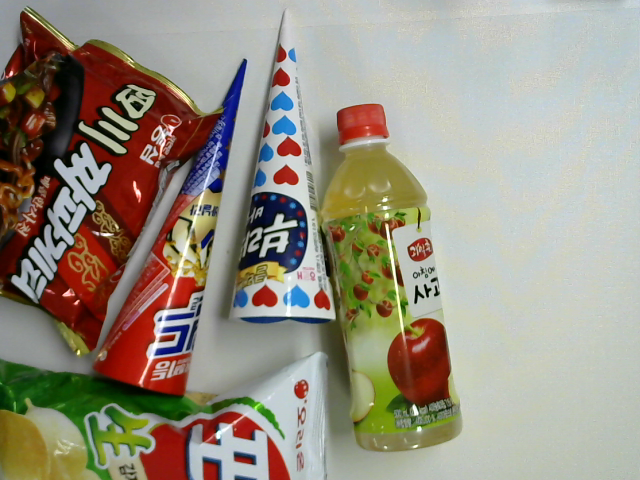Bravo_Cone_(Banila)_CVS: (225, 2, 344, 331)
Morning_Apple_500ml: (314, 94, 473, 459)
Pocachip_Onion: (1, 344, 356, 478)
Sichuan_Chapaghetti: (1, 5, 235, 371)
World_Cone_Banila: (88, 50, 256, 401)
